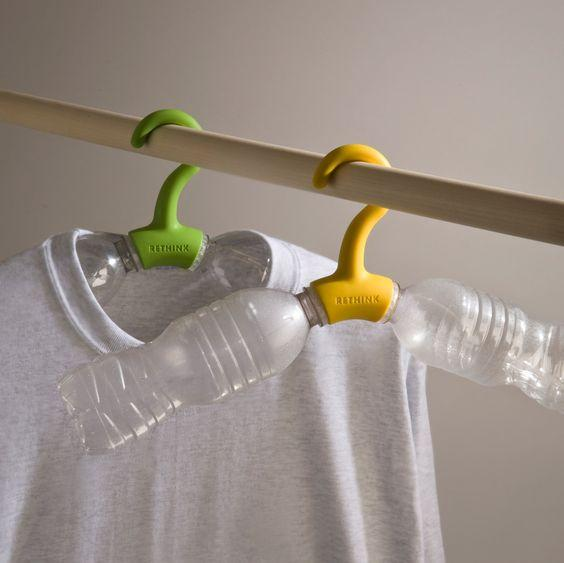HDPE: (310, 143, 395, 320), (127, 107, 205, 269)
PETE: (54, 287, 309, 457), (393, 277, 564, 416)
